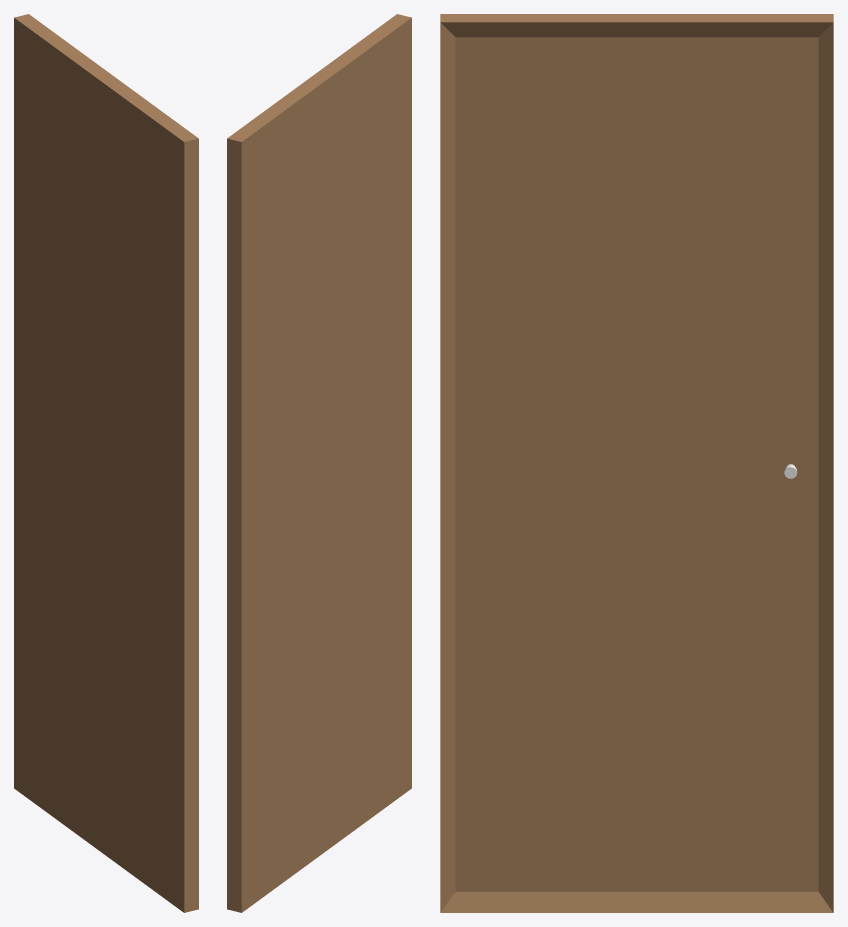
File: Office_door.fbx
3 renders of one model, left to right at view 1: azimuth 30°, elevation 25°; view 2: azimuth 150°, elevation 25°; view 3: azimuth 270°, elevation 25°, orthographic. The views are drawn at different scales.
Visible parts, largest first — view 1: polySurface1; view 2: polySurface1; view 3: polySurface1.
Part boxes in pixels (bbox=[...]): polySurface1: bbox=[14, 14, 198, 912]; polySurface1: bbox=[227, 14, 411, 912]; polySurface1: bbox=[440, 14, 833, 912].
Size of the model in its own units: 4.66 by 200 by 80.
